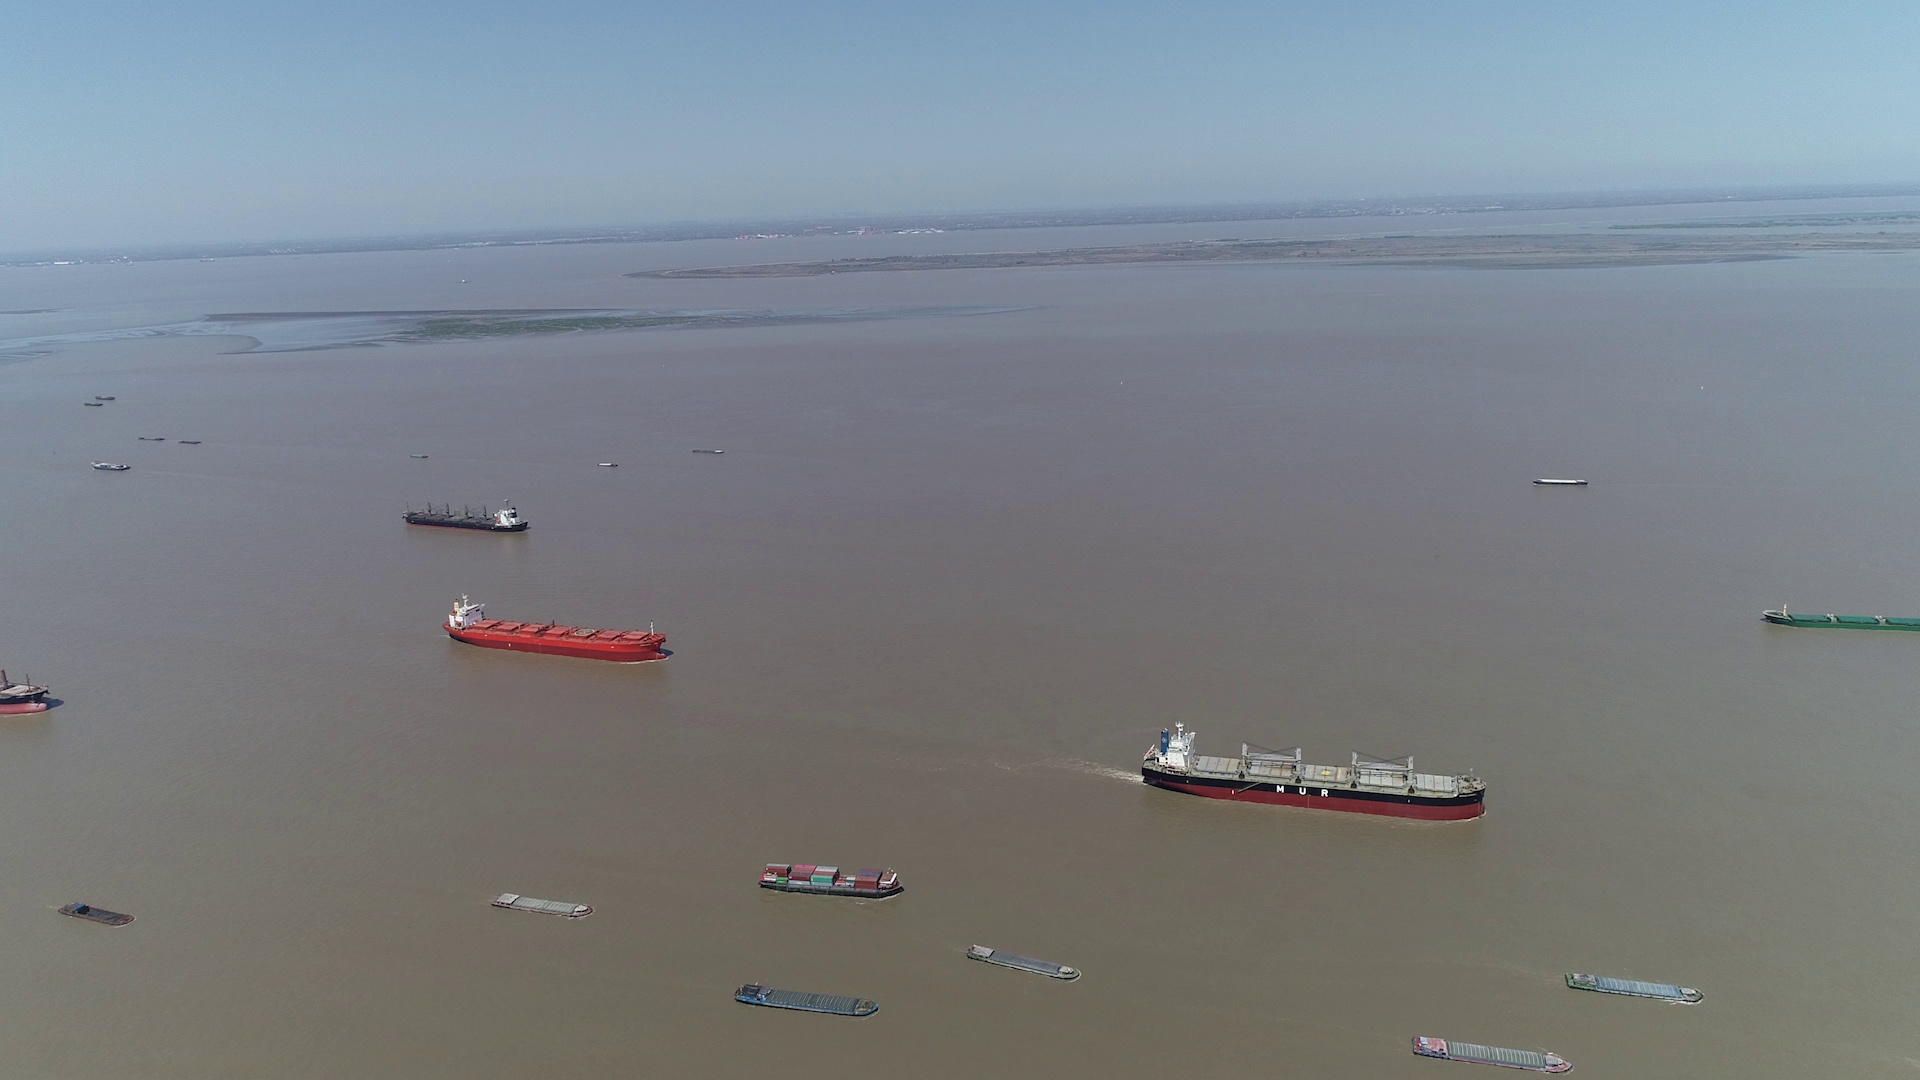ship: (1141, 725, 1489, 819), (448, 593, 667, 662), (1414, 1035, 1569, 1073), (733, 982, 881, 1021), (758, 862, 905, 899), (1565, 972, 1702, 1006), (1760, 603, 1917, 632), (963, 944, 1080, 982), (401, 500, 531, 533), (0, 659, 55, 717), (493, 891, 591, 918), (58, 902, 133, 924), (1532, 477, 1586, 487), (94, 460, 129, 471), (691, 448, 724, 455)
